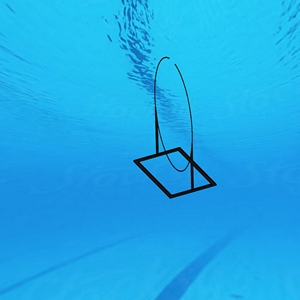circle: (132, 54, 220, 200)
